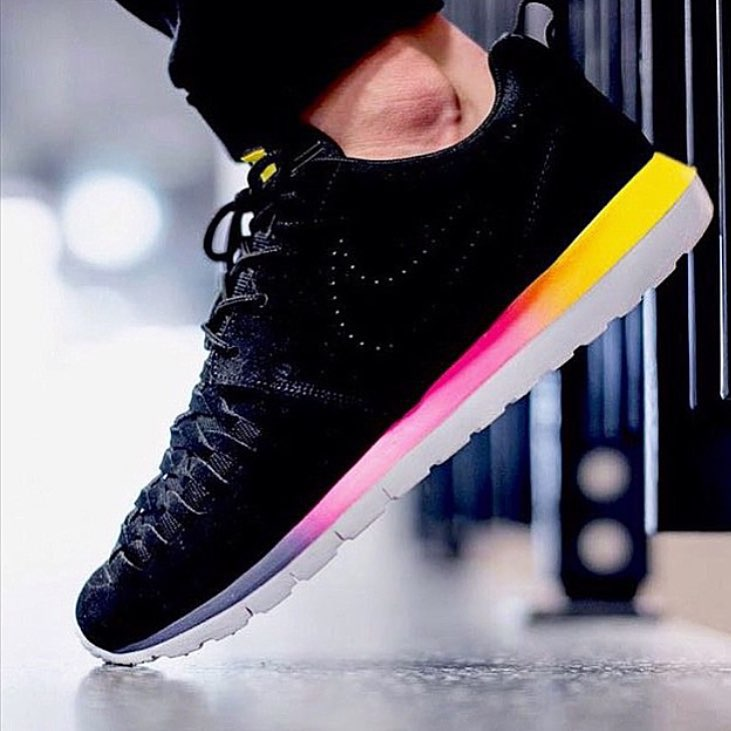sneaker: (28, 1, 729, 711)
